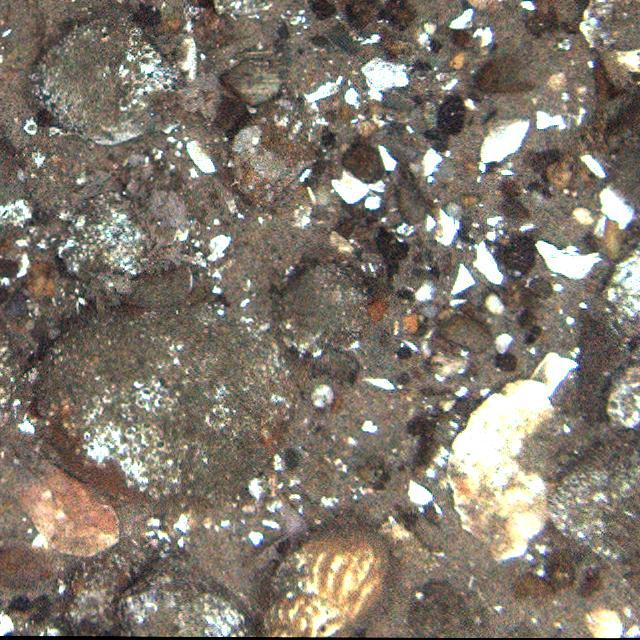whelk: (271, 524, 395, 637)
